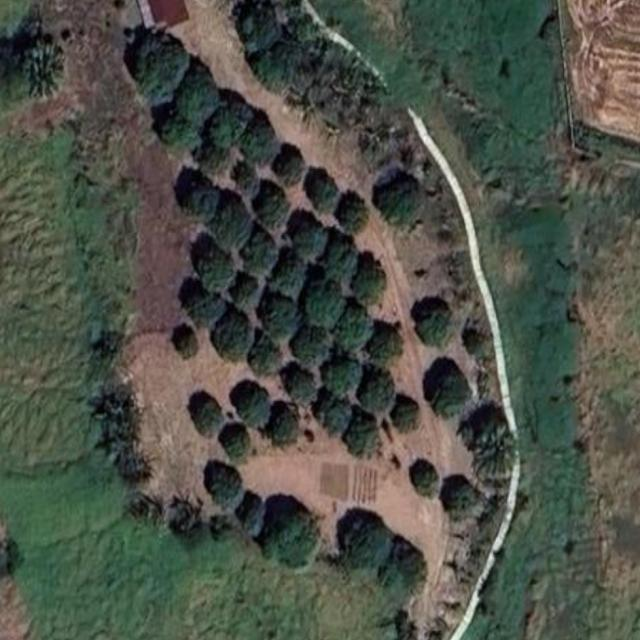Tree: (130, 27, 190, 112), (100, 386, 149, 481), (262, 499, 323, 574), (469, 406, 517, 485), (338, 510, 390, 578), (380, 534, 428, 601), (252, 34, 301, 96), (426, 360, 476, 419), (376, 169, 422, 230), (203, 192, 250, 250), (177, 69, 220, 126), (209, 96, 256, 148), (442, 472, 488, 525), (415, 294, 456, 353), (239, 228, 280, 287), (302, 275, 343, 332), (208, 307, 252, 360), (24, 43, 62, 102), (236, 383, 277, 435), (235, 4, 279, 52), (324, 350, 362, 405), (302, 165, 339, 219), (279, 357, 318, 408), (330, 305, 369, 356), (368, 321, 406, 372), (288, 322, 332, 366), (317, 234, 357, 281), (270, 253, 308, 302), (154, 107, 194, 153), (354, 365, 392, 413), (243, 118, 280, 166), (345, 414, 380, 464), (263, 290, 296, 342), (254, 186, 291, 232), (184, 284, 220, 328), (181, 177, 218, 219), (195, 248, 232, 290), (386, 389, 423, 431), (336, 188, 369, 235), (267, 405, 303, 448), (410, 456, 448, 496), (356, 264, 389, 310), (288, 220, 326, 258), (208, 464, 244, 504), (221, 422, 257, 462), (193, 391, 223, 437), (273, 140, 302, 186), (241, 490, 269, 535), (248, 335, 280, 373), (174, 496, 206, 534), (229, 275, 261, 312), (174, 326, 202, 362), (468, 331, 492, 362)
